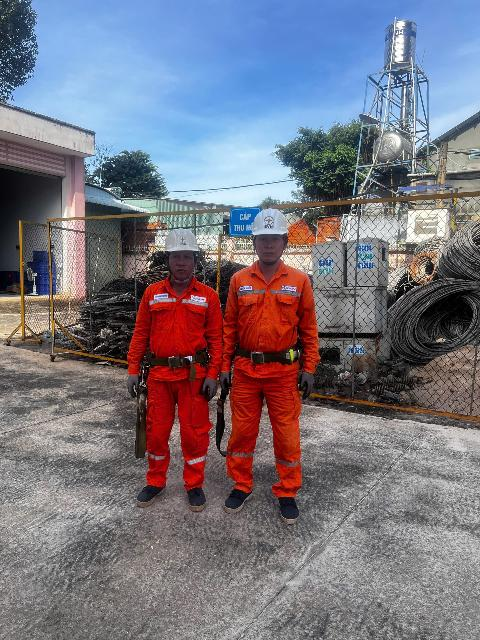gloves: (296, 367, 318, 403), (123, 368, 141, 394), (201, 376, 217, 399), (217, 371, 232, 394)
harness: (231, 340, 304, 368), (140, 350, 216, 369)
helmet: (250, 206, 293, 238), (162, 227, 203, 250)
shoes: (264, 488, 303, 526), (133, 480, 167, 508), (222, 484, 255, 512), (182, 484, 210, 514)
